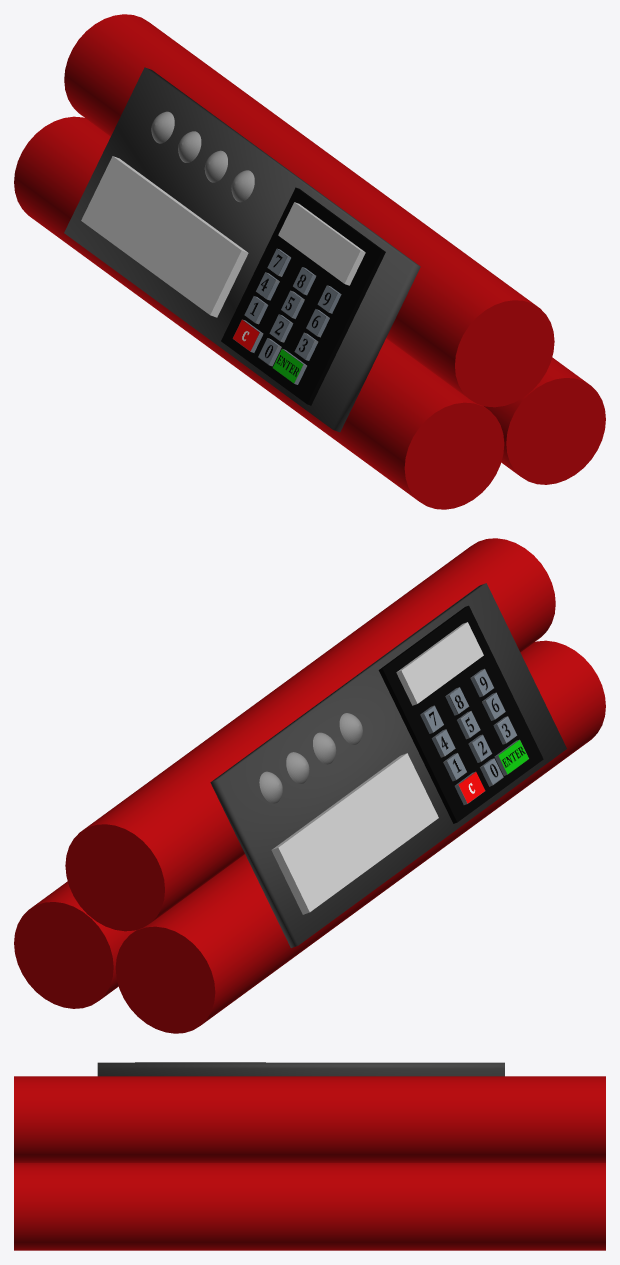
File: bombfinal.fbx
3 renders of one model, top to bottom at view 1: azimuth 30°, elevation 25°; view 2: azimuth 150°, elevation 25°; view 3: azimuth 270°, elevation 25°, orthographic. The views are drawn at different scales.
Parts seen in each view (by area): view 1: bomb, Timer, Numpad, Display, Numpad_confirm; view 2: bomb, Timer, Numpad, Display, Numpad_confirm; view 3: bomb.
Part boxes in pixels (<box>): bomb: <box>14,14,605,509</box>; Timer: <box>81,156,248,317</box>; Numpad: <box>221,187,385,405</box>; Display: <box>278,202,365,285</box>; Numpad_confirm: <box>272,348,306,384</box>; bomb: <box>14,538,605,1033</box>; Timer: <box>271,753,438,914</box>; Numpad: <box>378,605,543,823</box>; Display: <box>396,622,483,705</box>; Numpad_confirm: <box>494,739,528,775</box>; bomb: <box>14,1062,605,1250</box>.
Bounding box in the file's own units: 26.29 × 22.99 × 81.25.
